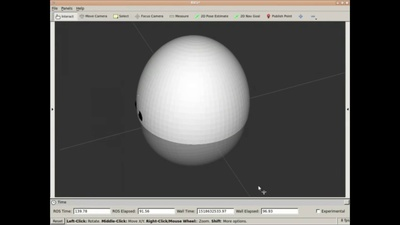mira_robot: (135, 35, 250, 165)
